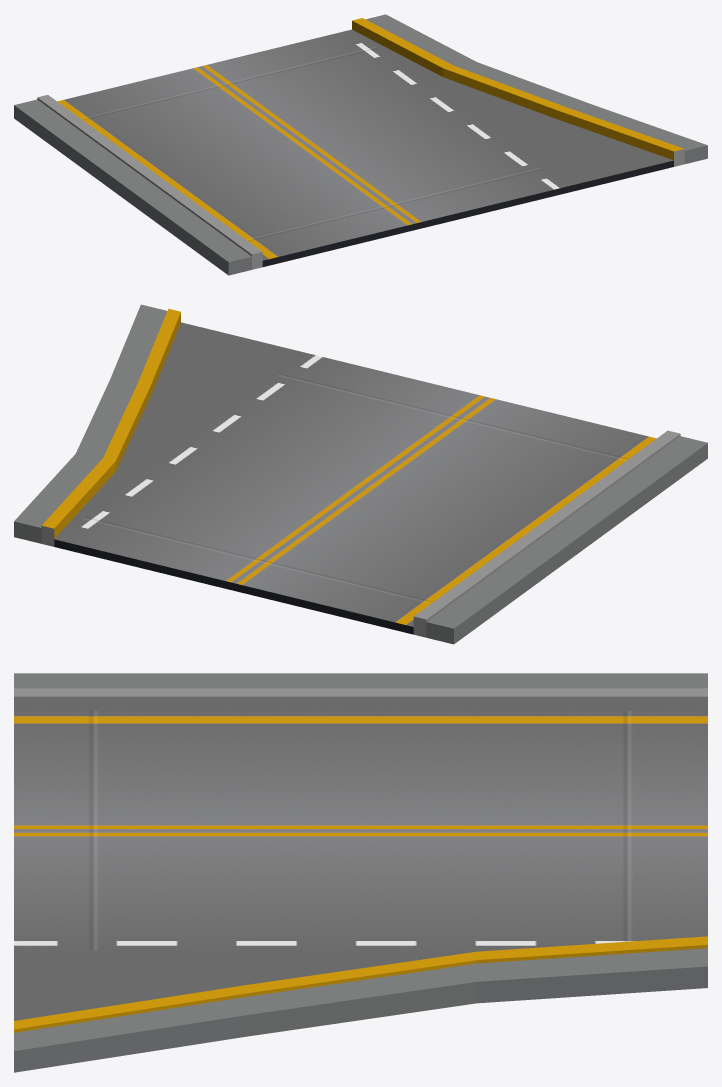
File: Road4_Shoulder_Extender.fbx
3 views of the same model, one above another, from view 1: azimuth 30°, elevation 25°; view 2: azimuth 150°, elevation 25°; view 3: azimuth 270°, elevation 25° (orthographic). The views are drawn at different scales.
Parts seen in each view (by area): view 1: Road4_Shoulder_Extender; view 2: Road4_Shoulder_Extender; view 3: Road4_Shoulder_Extender.
Part boxes in pixels (x1,y1,x2,y2): Road4_Shoulder_Extender: (14,14,707,275); Road4_Shoulder_Extender: (14,304,707,644); Road4_Shoulder_Extender: (14,673,707,1072).
Size of the model in its own units: 15.47 by 0.4753 by 12.
